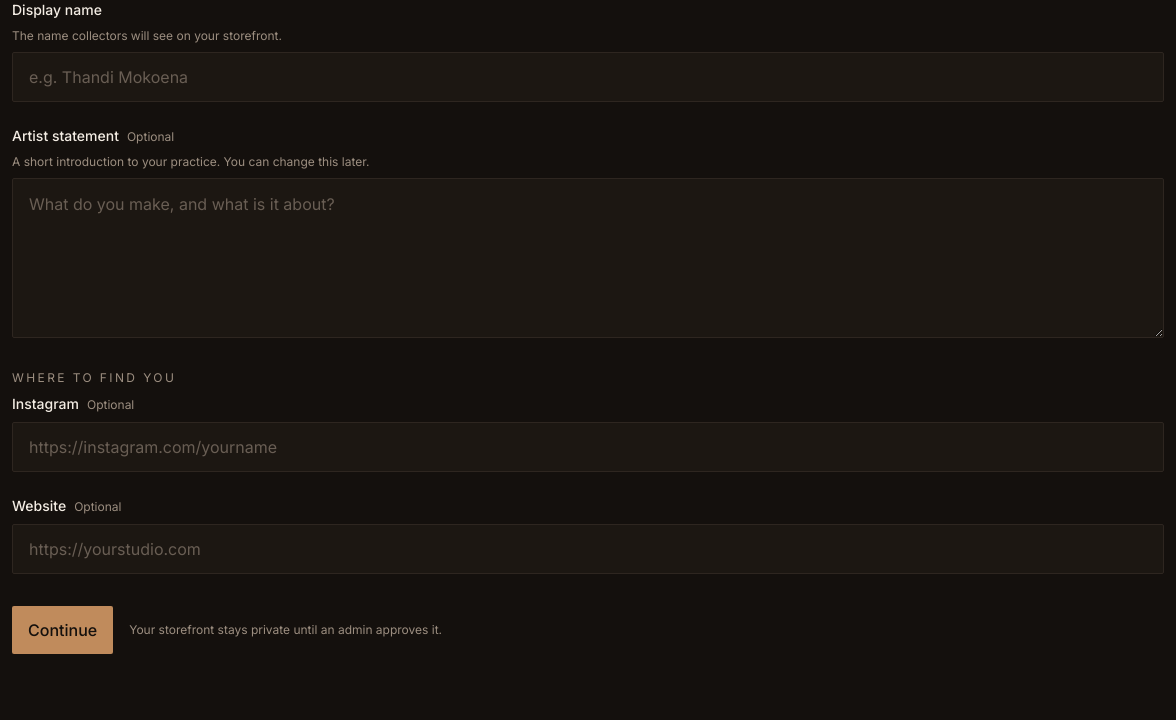
Test: ArtistProfileForm — submitting › shows a recoverable message when the save fails outright
This screenshot has width=1176, height=720.
Type "Thandi Mokoena" into the field labelled "Display name" at (588, 77), box [12,52,1164,102]
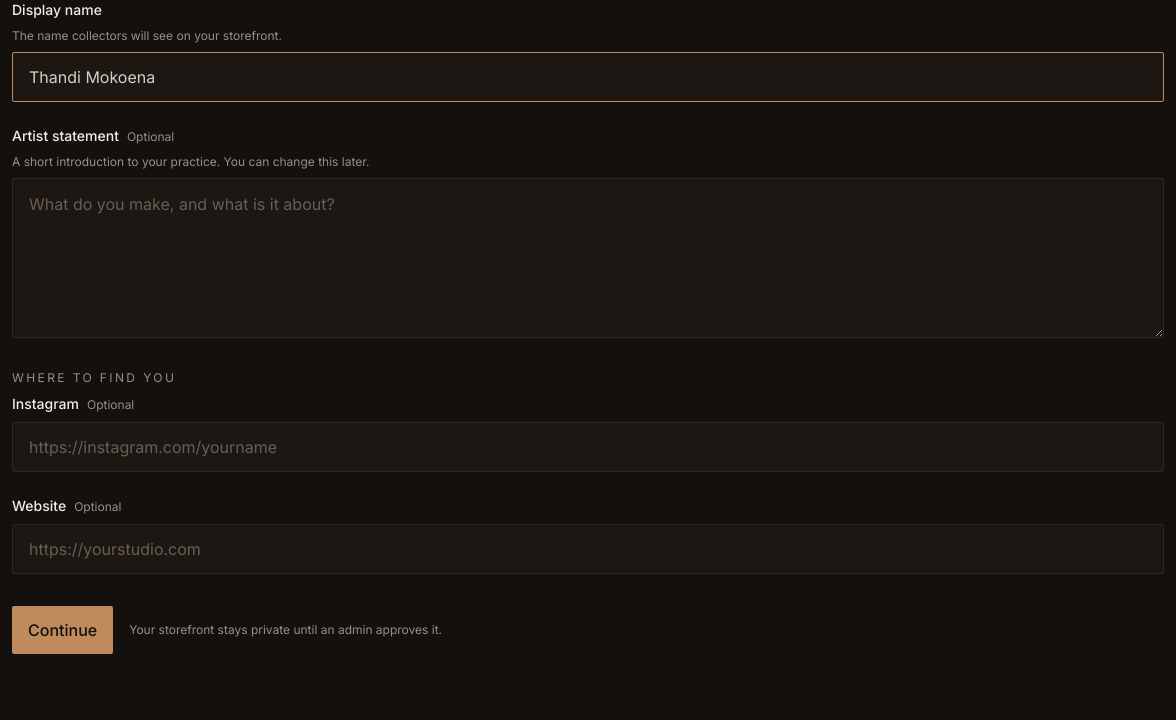
Click the button "Continue" at (63, 630), box [12,606,113,654]
(page scrolled)
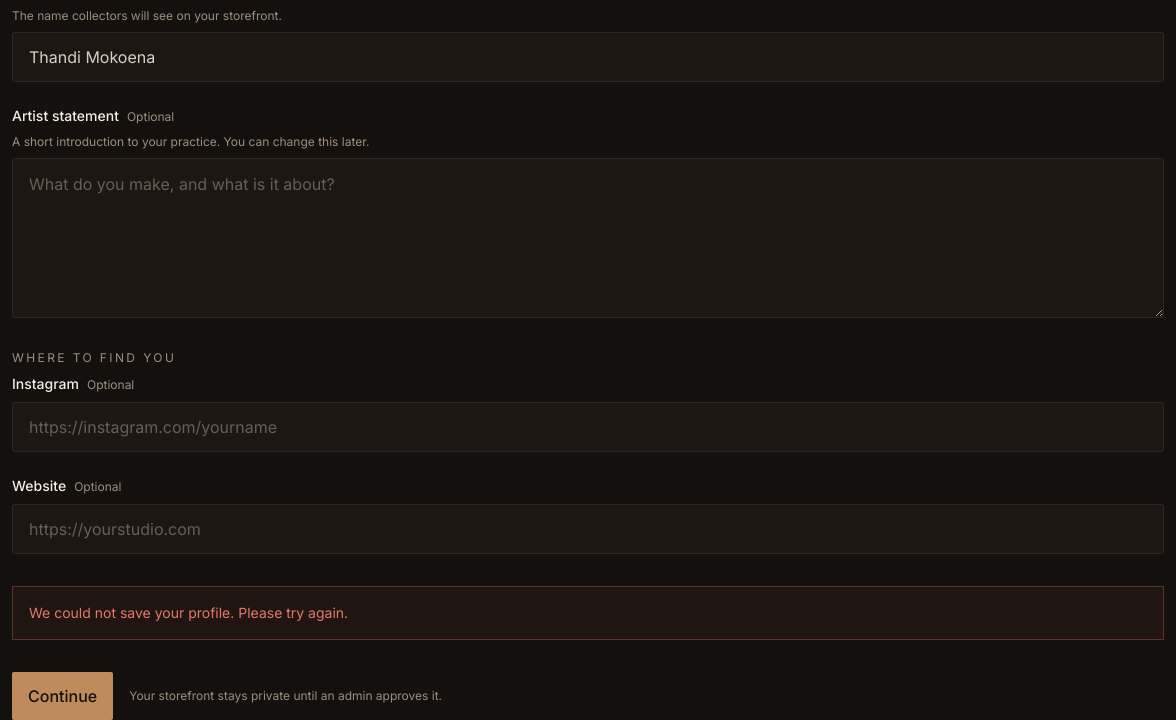
Expected: the button "Continue" is enabled, [12,672,113,719]
Now the message shows "could not save", box [29,604,348,621]
